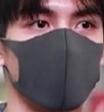with_mask: (2, 1, 104, 112)
